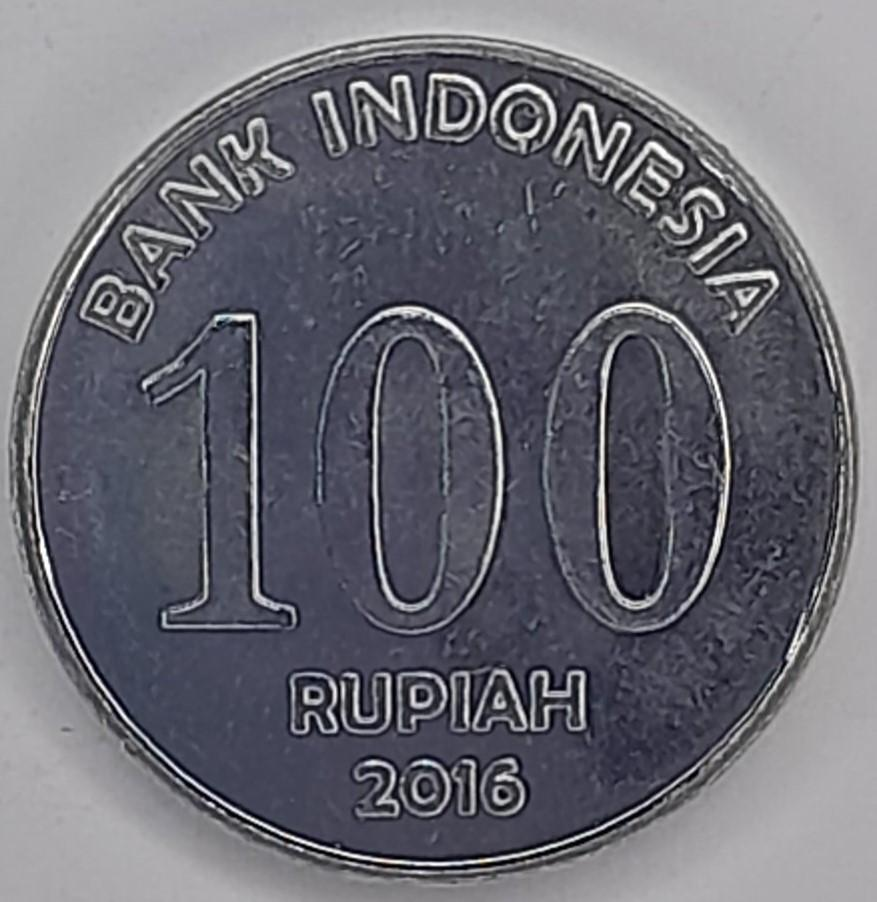coin_100_e2016: (3, 28, 863, 883)
